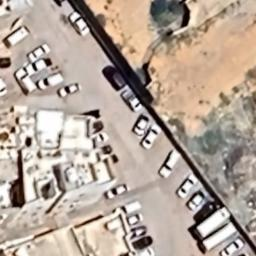pickup: (118, 84, 146, 112), (22, 58, 56, 76)
sedan: (173, 168, 198, 200), (66, 8, 92, 38), (142, 120, 164, 154), (54, 80, 86, 100), (186, 186, 210, 212), (218, 234, 244, 256), (104, 182, 132, 200), (26, 43, 52, 61)
truck: (160, 142, 182, 182), (12, 66, 38, 98), (34, 70, 66, 92)
unknown: (132, 112, 152, 140), (116, 199, 143, 216), (130, 234, 154, 250), (124, 212, 145, 228), (127, 224, 148, 238)
van: (100, 63, 128, 90)
